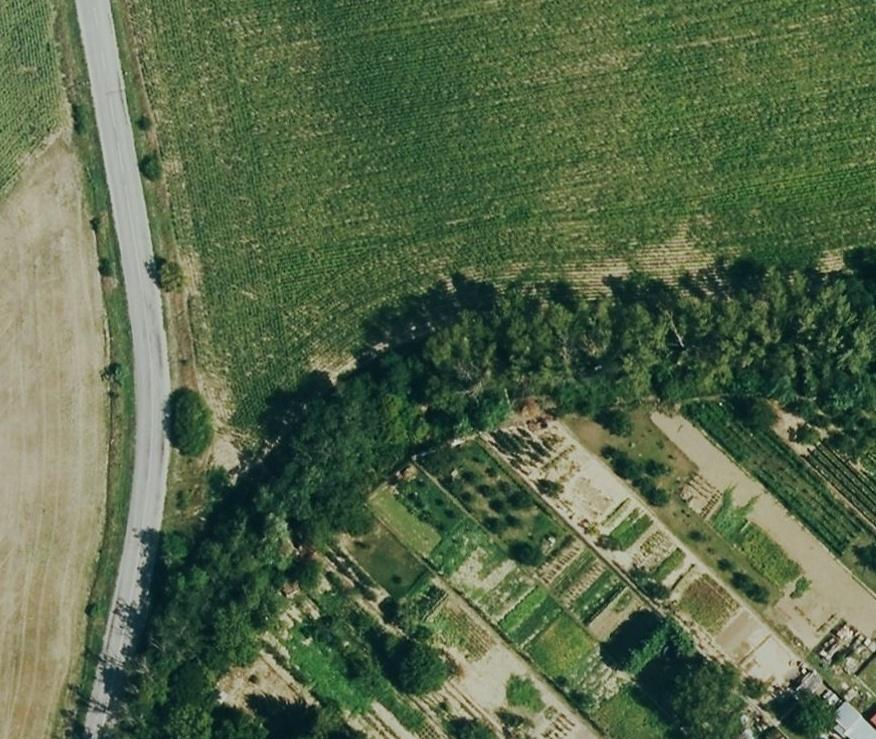field: (118, 2, 876, 429), (368, 412, 876, 726), (0, 2, 108, 735)
forest: (123, 248, 876, 733), (602, 611, 744, 738)
